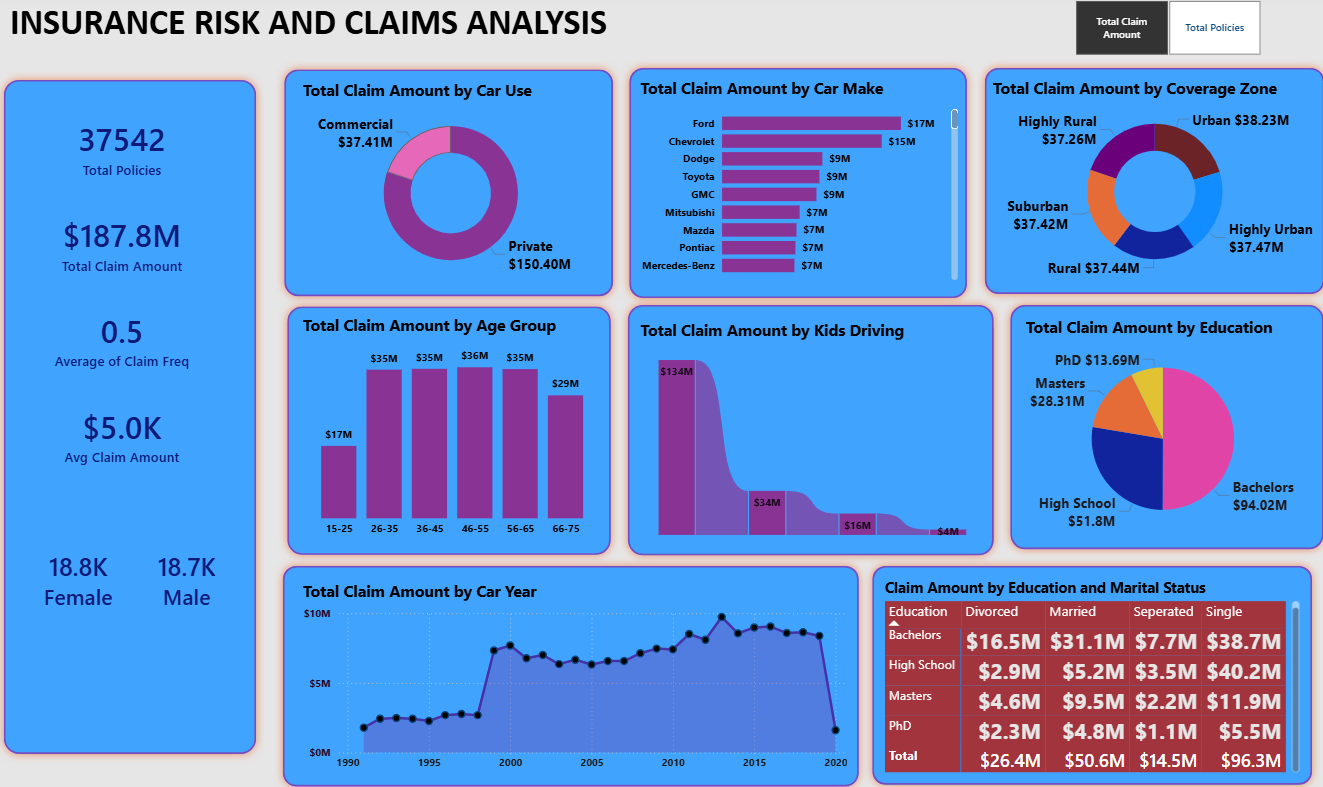

Layout of this report page (visuals, bound fields, positions):
{"tool":"powerbi","page":{"name":"Page 1","canvas":[1600,950],"ordinal":0},"visuals":[{"type":"textbox","box":[9.4,0,744.1,68.5],"z":0},{"type":"shape","box":[9.5,90.9,319.9,821.5],"z":1000},{"type":"cardVisual","fields":{"Data":["Sheet1.Total Policies","Sheet1.Total Claim Amount","Avg(Sheet1.Claim Freq)","Sheet1.Avg Claim Amount"]},"box":[34.1,117.4,251.7,473.2],"z":2000},{"type":"cardVisual","fields":{"Data":["Sheet1.Female Count","Sheet1.Male Count"]},"box":[36,518.6,272.6,353.9],"z":3000},{"type":"slicer","fields":{"Values":["Select Measure.Select Measure"]},"box":[1268.1,0,268.8,77.6],"z":4000},{"type":"shape","box":[342.6,77.6,410.7,289.6],"z":5000},{"type":"donutChart","fields":{"Y":["Sheet1.Total Claim Amount"],"Category":["Sheet1.Car Use"]},"box":[369.1,100.3,361.5,246.1],"z":6000},{"type":"shape","box":[753.5,77,421.3,293.7],"z":7000},{"type":"clusteredBarChart","fields":{"Y":["Sheet1.Total Claim Amount"],"Category":["Sheet1.Car Make"]},"box":[770.3,98.7,387.6,245.5],"z":8000},{"type":"shape","box":[1174.7,77,423.7,288.9],"z":9000},{"type":"donutChart","fields":{"Y":["Sheet1.Total Claim Amount"],"Category":["Sheet1.Coverage Zone"]},"box":[1189.2,98.7,394.8,245.5],"z":10000},{"type":"shape","box":[346.6,361.1,404.4,315.4],"z":11000},{"type":"clusteredColumnChart","fields":{"Category":["Sheet1.Age Group"],"Y":["Sheet1.Total Claim Amount"]},"box":[368.3,380.3,365.9,272],"z":12000},{"type":"shape","box":[751.1,358.7,455,317.8],"z":13000},{"type":"ribbonChart","fields":{"Category":["Sheet1.Kids Driving"],"Y":["Sheet1.Total Claim Amount"]},"box":[770.3,385.2,418.9,262.4],"z":14000},{"type":"shape","box":[341.5,669.1,704.6,282.2],"z":15000},{"type":"areaChart","fields":{"Category":["Sheet1.Car Year"],"Y":["Sheet1.Total Claim Amount"]},"box":[369.1,694.7,657.2,234.9],"z":16000},{"type":"shape","box":[1206,358.7,392.4,310.5],"z":16500},{"type":"pieChart","fields":{"Category":["Sheet1.Education"],"Y":["Sheet1.Total Claim Amount"]},"box":[1229.6,380.9,335.5,266.5],"z":17000},{"type":"shape","box":[1042.1,669.1,542.8,280.3],"z":17001},{"type":"pivotTable","title":"Claim Amount by Education and Marital Status","fields":{"Rows":["Sheet1.Education"],"Columns":["Sheet1.Marital Status"],"Values":["Sheet1.Total Claim Amount"]},"box":[1061.9,692.8,503.3,236.8],"z":17002}]}

Visuals, with their boxes in screenshot pixels (x1, y1, x2, y2), scaled from the page's 1600x950 canvas onto the 1323x787 screenshot:
textbox: locate(8, 0, 623, 57)
shape: locate(8, 75, 272, 756)
cardVisual - Sheet1.Total Policies x Sheet1.Total Claim Amount: locate(28, 97, 236, 489)
cardVisual - Sheet1.Female Count x Sheet1.Male Count: locate(30, 430, 255, 723)
slicer - Select Measure.Select Measure: locate(1049, 0, 1271, 64)
shape: locate(283, 64, 623, 304)
donutChart - Sheet1.Total Claim Amount x Sheet1.Car Use: locate(305, 83, 604, 287)
shape: locate(623, 64, 971, 307)
clusteredBarChart - Sheet1.Total Claim Amount x Sheet1.Car Make: locate(637, 82, 957, 285)
shape: locate(971, 64, 1322, 303)
donutChart - Sheet1.Total Claim Amount x Sheet1.Coverage Zone: locate(983, 82, 1310, 285)
shape: locate(287, 299, 621, 560)
clusteredColumnChart - Sheet1.Age Group x Sheet1.Total Claim Amount: locate(305, 315, 607, 540)
shape: locate(621, 297, 997, 560)
ribbonChart - Sheet1.Kids Driving x Sheet1.Total Claim Amount: locate(637, 319, 983, 536)
shape: locate(282, 554, 865, 786)
areaChart - Sheet1.Car Year x Sheet1.Total Claim Amount: locate(305, 576, 849, 770)
shape: locate(997, 297, 1322, 554)
pieChart - Sheet1.Education x Sheet1.Total Claim Amount: locate(1017, 316, 1294, 536)
shape: locate(862, 554, 1311, 786)
"Claim Amount by Education and Marital Status" pivotTable: locate(878, 574, 1294, 770)
